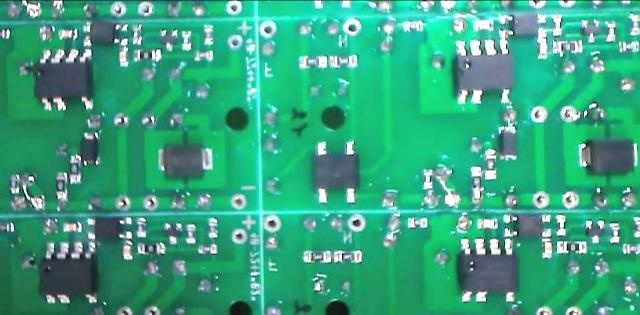chip-capacitor: (57, 27, 79, 40), (473, 19, 495, 31), (541, 236, 553, 258), (477, 217, 499, 229), (122, 240, 134, 261), (62, 221, 83, 233), (537, 37, 548, 59), (119, 46, 129, 67)
chip-resistor: (551, 38, 583, 55), (555, 239, 587, 255), (329, 52, 359, 69), (333, 248, 363, 264), (302, 248, 332, 264), (484, 148, 498, 181), (297, 54, 327, 69), (132, 47, 162, 62), (137, 241, 167, 256), (69, 154, 83, 185), (55, 170, 69, 200), (470, 164, 482, 194), (401, 18, 424, 32), (605, 18, 618, 42), (608, 220, 620, 245), (617, 40, 640, 53), (550, 13, 563, 36), (130, 22, 143, 45), (206, 216, 219, 239), (556, 212, 568, 236), (407, 216, 429, 229), (628, 12, 640, 35), (422, 167, 434, 190), (136, 216, 148, 239), (180, 29, 192, 51), (9, 173, 21, 195), (197, 242, 219, 254), (193, 49, 214, 61), (185, 223, 197, 244), (621, 242, 640, 255), (203, 24, 214, 45), (632, 215, 640, 238)
diode: (577, 137, 639, 175), (158, 143, 214, 178), (498, 124, 518, 162), (81, 129, 100, 166)
ic: (455, 234, 521, 303), (39, 239, 100, 306), (453, 37, 513, 105), (34, 46, 94, 112), (311, 138, 361, 204), (502, 212, 552, 238), (82, 21, 130, 48), (497, 13, 547, 36), (86, 216, 134, 239)
transistor: (585, 217, 607, 244), (581, 17, 602, 43), (159, 27, 180, 53), (164, 221, 184, 245)
